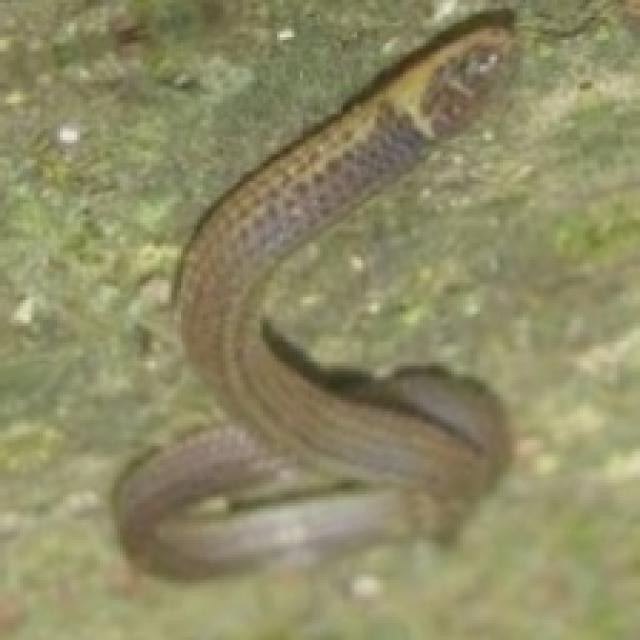gervais worm snake: (114, 11, 514, 574)
